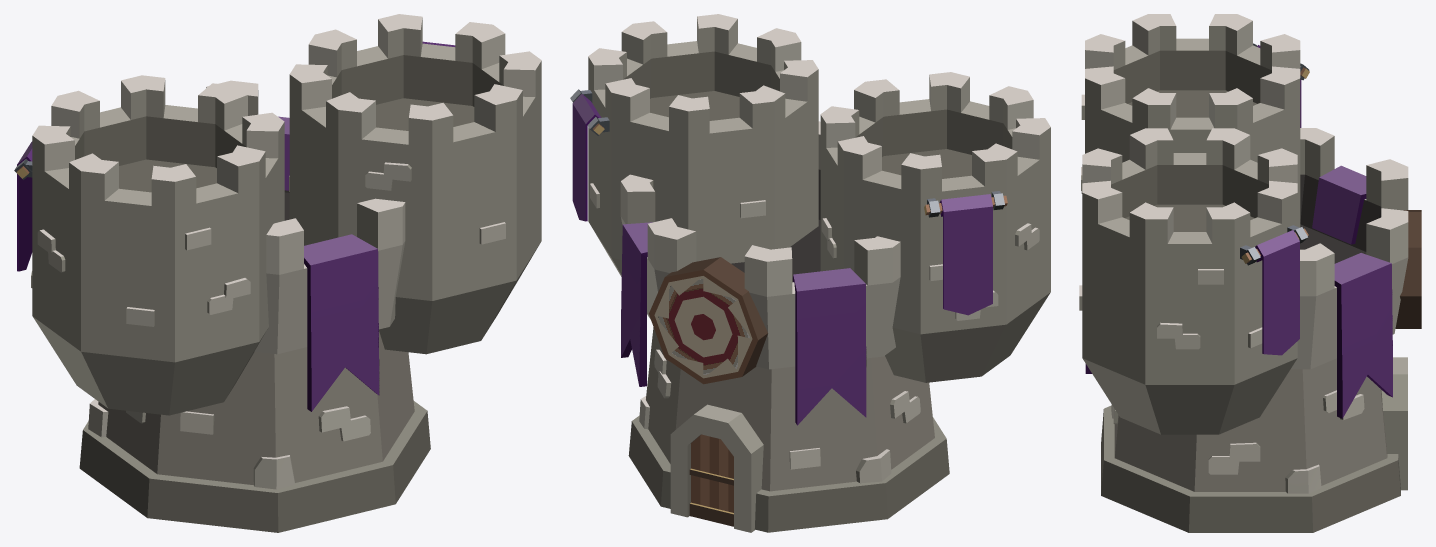
The model's file is ArcherTower_Lv4B.obj.
3 renders of one model, left to right at view 1: azimuth 30°, elevation 25°; view 2: azimuth 150°, elevation 25°; view 3: azimuth 270°, elevation 25°, orthographic. The views are drawn at different scales.
Visible parts, largest first — view 1: ArcherTower_Lv4B; view 2: ArcherTower_Lv4B; view 3: ArcherTower_Lv4B.
Boxes of the visible parts, x1,y1,x2,y2 form: ArcherTower_Lv4B: (14, 14, 541, 532); ArcherTower_Lv4B: (570, 14, 1050, 532); ArcherTower_Lv4B: (1079, 14, 1421, 532).
Bounding box in the file's own units: 10.41 × 8.03 × 7.05.
1 material, 1 textured.
